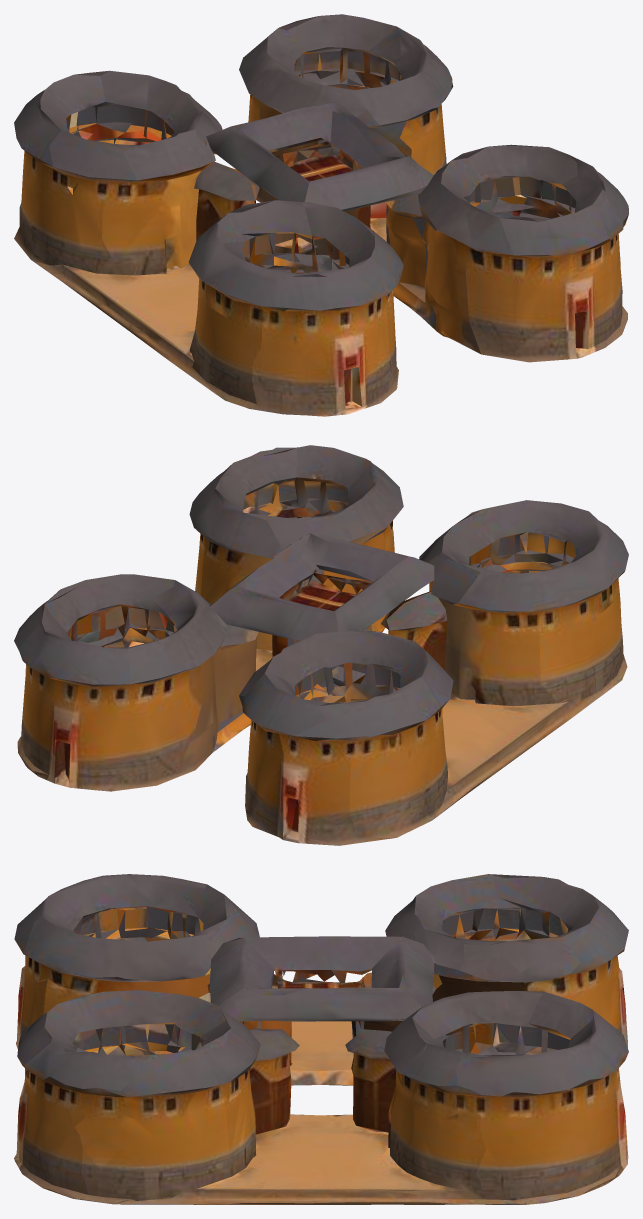
Rendered from tianluokeng-tulou.glb.
3 renders of one model, top to bottom at view 1: azimuth 30°, elevation 25°; view 2: azimuth 150°, elevation 25°; view 3: azimuth 270°, elevation 25°, orthographic. The views are drawn at different scales.
Parts seen in each view (by area): view 1: logan-textured.obj; view 2: logan-textured.obj; view 3: logan-textured.obj.
Part boxes in pixels (left/top/right/bottom): logan-textured.obj: left=14, top=14, right=628, bottom=416; logan-textured.obj: left=14, top=445, right=628, bottom=845; logan-textured.obj: left=14, top=874, right=628, bottom=1204.
Bounding box in the file's own units: 0.7934 × 0.2548 × 1.
1 material, 1 textured.
